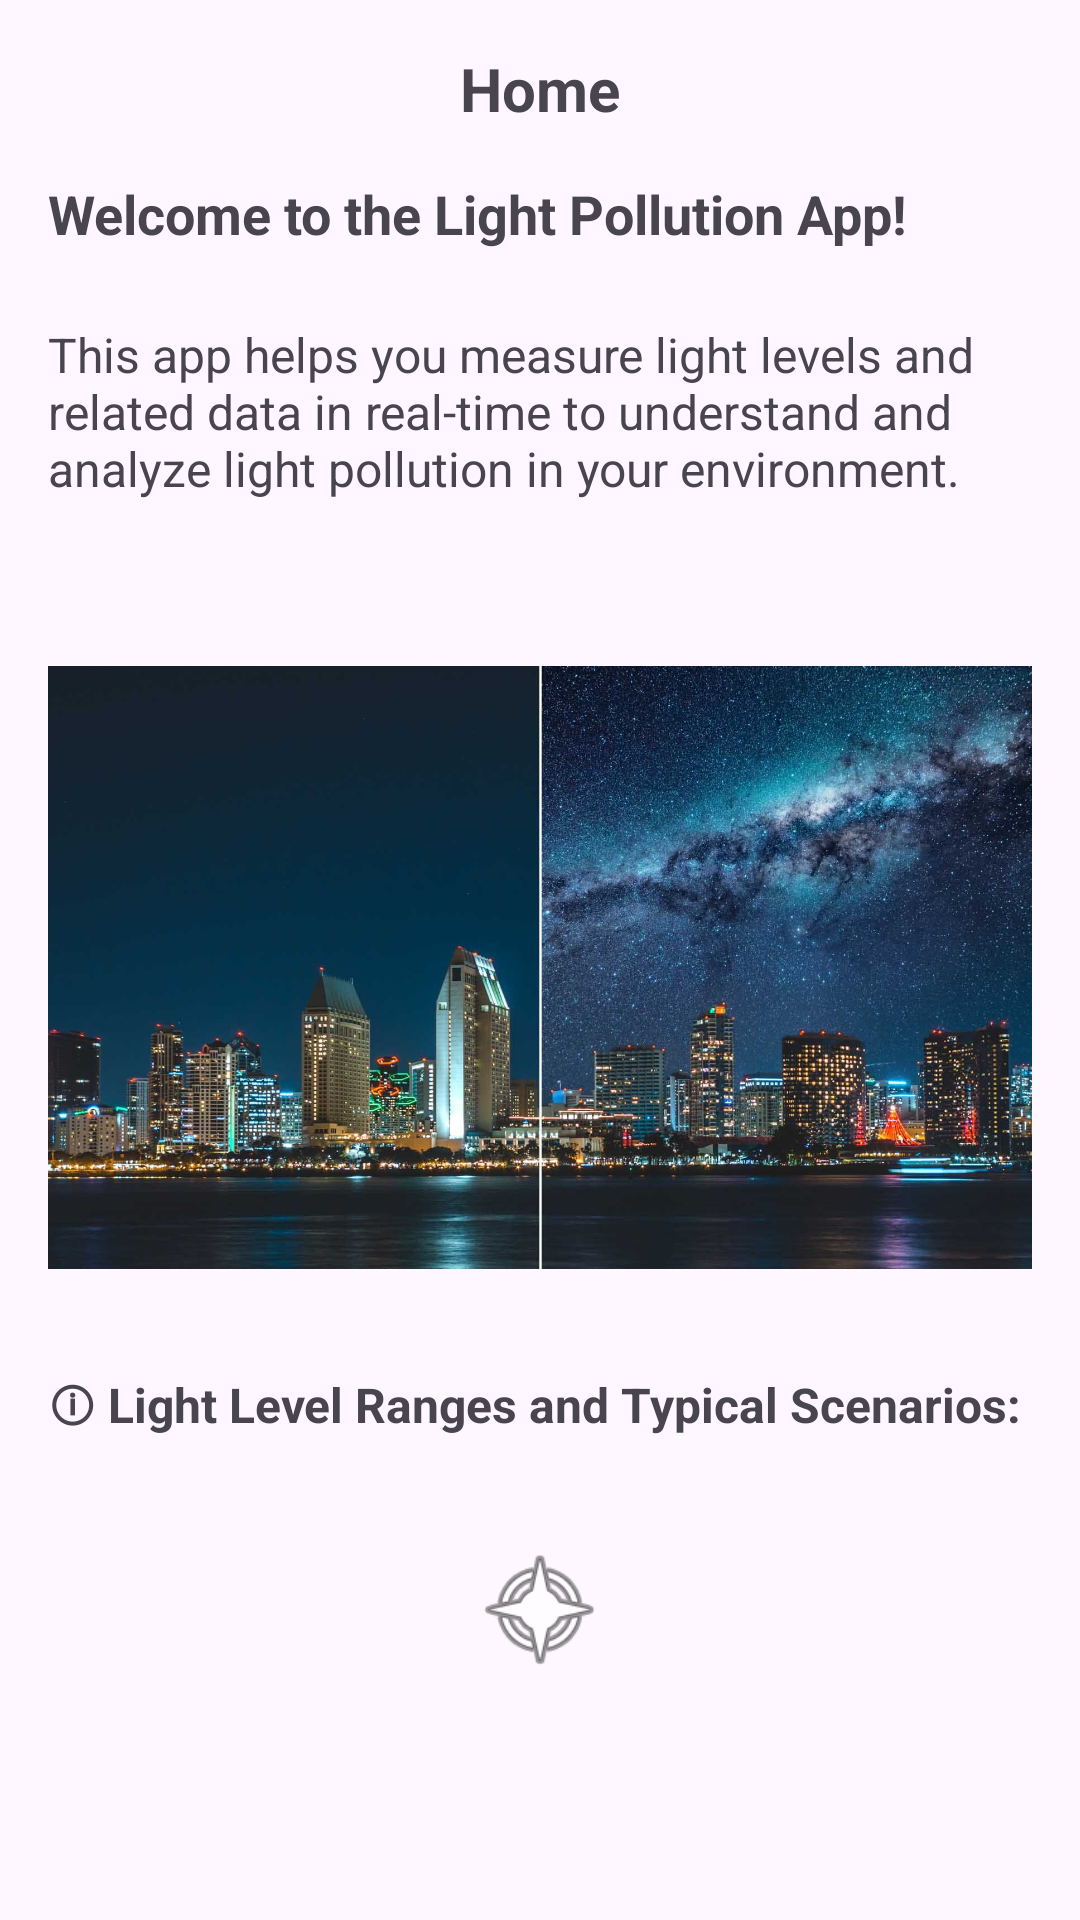

Icons on this 1080px x 1920px Android screen, each with the point to tap as point (x, y):
App Icon: point (539, 1609)
